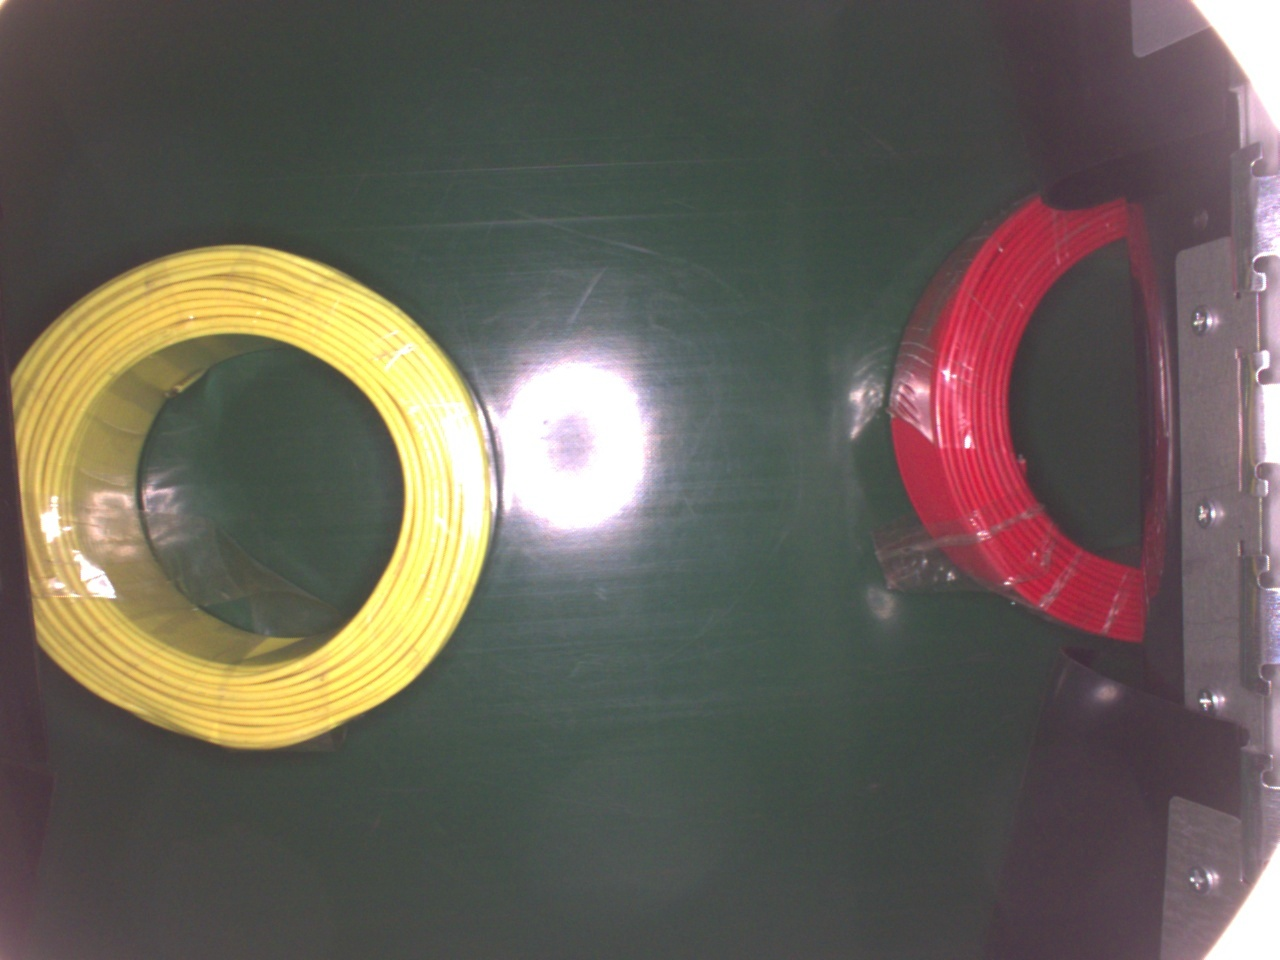red: (888, 179, 1178, 646)
yellow: (8, 242, 505, 750)
